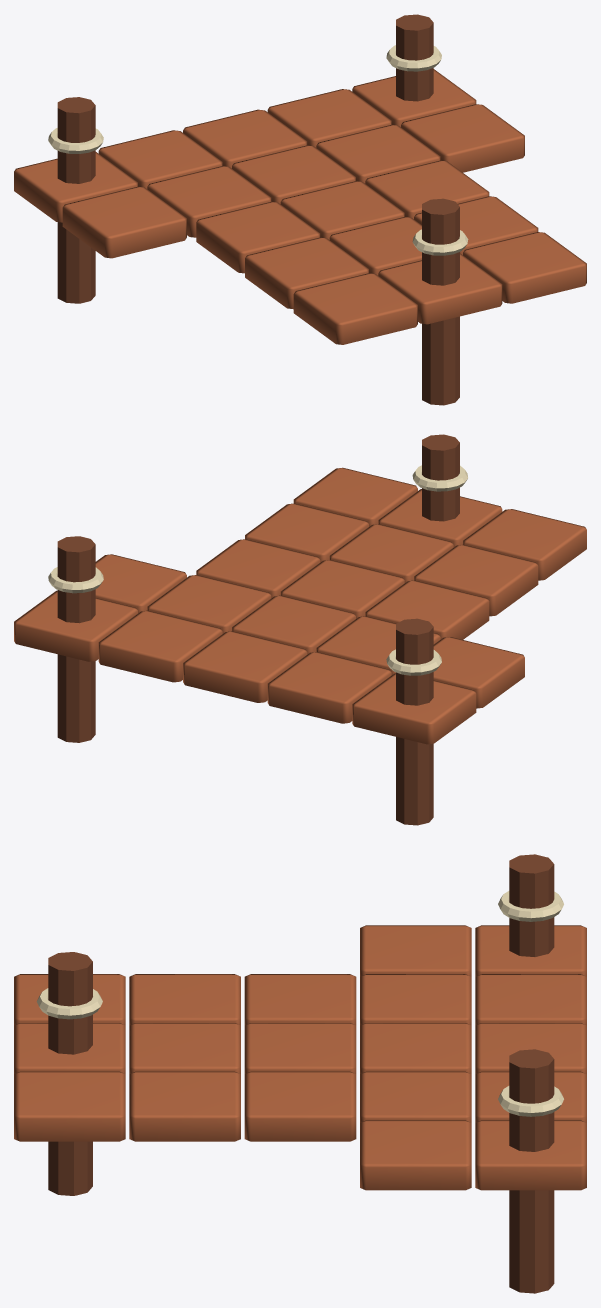
Rendered from dock-t-junction.glb.
3 renders of one model, top to bottom at view 1: azimuth 30°, elevation 25°; view 2: azimuth 150°, elevation 25°; view 3: azimuth 270°, elevation 25°, orthographic. The views are drawn at different scales.
Parts seen in each view (by area): view 1: Pier plank, Pier plank.002, Dock piling.002, Pier plank.012, Dock piling, Pier plank.017, Pier plank.004, Pier plank.003, Pier plank.007, Pier plank.005, Pier plank.015, Pier plank.009 (+13 smaller); view 2: Dock piling.001, Dock piling, Pier plank.006, Pier plank.011, Pier plank.016, Pier plank.001, Pier plank.003, Pier plank.002, Pier plank.018, Pier plank.004, Pier plank, Pier plank.012 (+13 smaller); view 3: Dock piling.001, Pier plank.014, Pier plank.012, Pier plank.013, Pier plank.017, Pier plank.018, Dock piling.002, Pier plank.015, Pier plank.009, Pier plank.004, Pier plank, Pier plank.003 (+13 smaller).
Part boxes in pixels (box(x1,y1,x2,y2)): Pier plank: box(62, 186, 186, 258); Pier plank.002: box(293, 273, 417, 344); Dock piling.002: box(422, 198, 459, 405); Pier plank.012: box(463, 232, 586, 303); Dock piling: box(57, 97, 95, 303); Pier plank.017: box(401, 104, 524, 172); Pier plank.004: box(196, 201, 320, 273); Pier plank.003: box(245, 237, 368, 309); Pier plank.007: box(378, 253, 502, 324); Pier plank.005: box(147, 166, 271, 237); Pier plank.015: box(316, 124, 440, 183); Pier plank.009: box(280, 181, 404, 239); Dock piling.001: box(57, 536, 95, 742); Dock piling: box(396, 618, 433, 825); Pier plank.006: box(267, 652, 391, 723); Pier plank.011: box(183, 631, 307, 702); Pier plank.016: box(98, 610, 222, 682); Pier plank.001: box(352, 673, 476, 744); Pier plank.003: box(414, 544, 538, 616); Pier plank.002: box(463, 509, 586, 580); Pier plank.018: box(14, 590, 137, 661); Pier plank.004: box(365, 580, 489, 639); Pier plank: box(433, 637, 524, 708); Pier plank.012: box(293, 467, 417, 526); Dock piling.001: box(509, 1049, 554, 1293); Pier plank.014: box(244, 1071, 356, 1141); Pier plank.012: box(14, 1071, 125, 1141); Pier plank.013: box(129, 1071, 240, 1141); Pier plank.017: box(360, 1120, 471, 1190); Pier plank.018: box(475, 1120, 586, 1190); Dock piling.002: box(48, 952, 92, 1195); Pier plank.015: box(360, 1071, 471, 1122); Pier plank.009: box(244, 1023, 356, 1073); Pier plank.004: box(244, 974, 356, 1024); Pier plank: box(360, 925, 471, 976); Pier plank.003: box(129, 974, 240, 1025).
Size of the model in its own units: 3.23 by 1.4 by 3.23.
